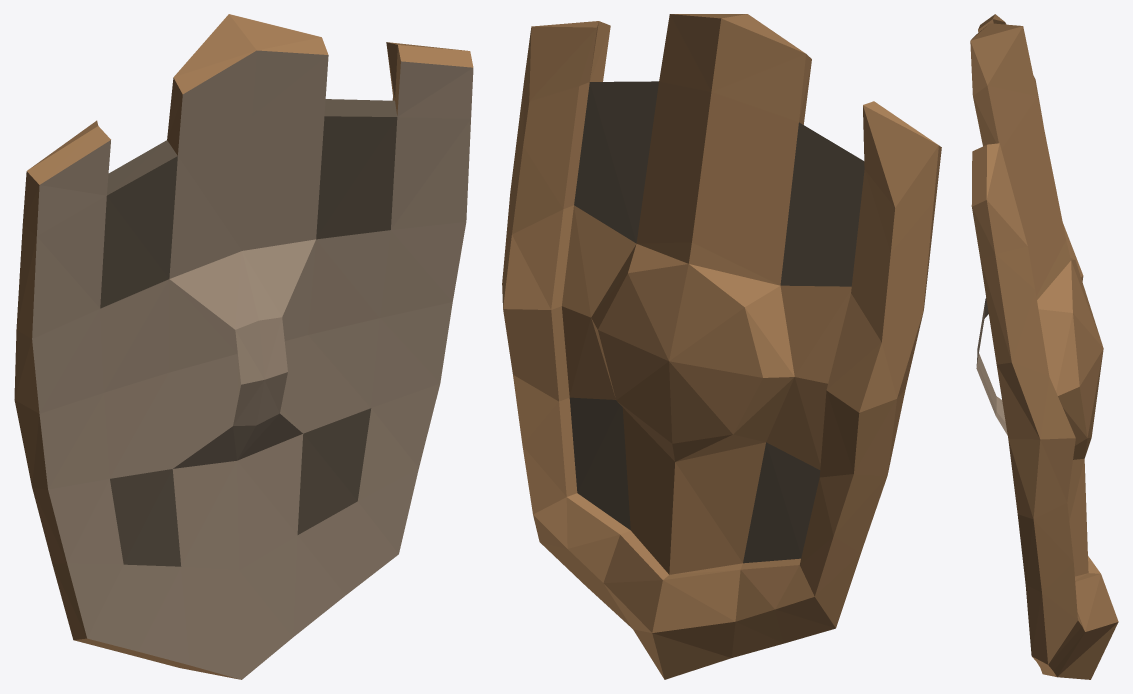
The model's file is bronze_shield.glb.
3 renders of one model, left to right at view 1: azimuth 30°, elevation 25°; view 2: azimuth 150°, elevation 25°; view 3: azimuth 270°, elevation 25°, orthographic. The views are drawn at different scales.
Parts seen in each view (by area): view 1: bronze_shield; view 2: bronze_shield; view 3: bronze_shield.
Part boxes in pixels (<box>): bronze_shield: <box>14,14,473,679</box>; bronze_shield: <box>502,14,941,679</box>; bronze_shield: <box>970,14,1118,679</box>.
Size of the model in its own units: 0.6848 by 1 by 0.2091.
